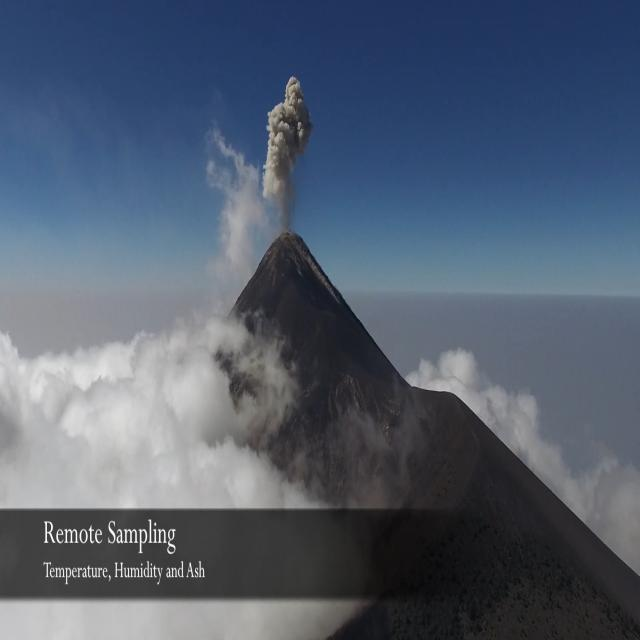Plume: (257, 62, 319, 234)
Summit: (102, 228, 540, 492)
